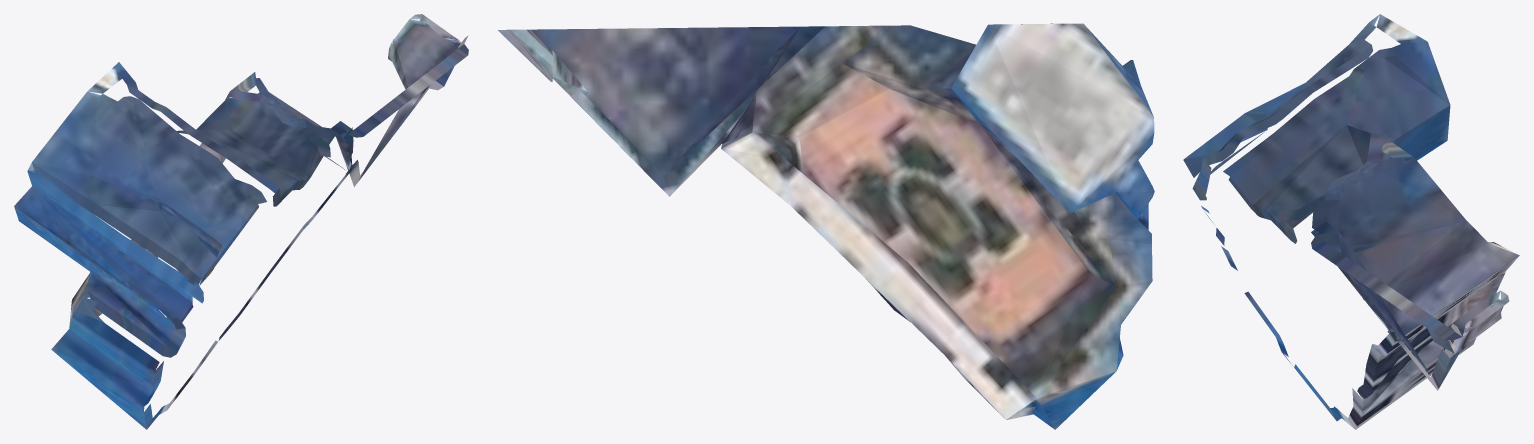
3 views of the same model, side by side, from view 1: azimuth 30°, elevation 25°; view 2: azimuth 150°, elevation 25°; view 3: azimuth 270°, elevation 25° (orthographic). The views are drawn at different scales.
Bounding box in the file's own units: 42.04 × 28.21 × 22.27.
1 material, 1 textured.
